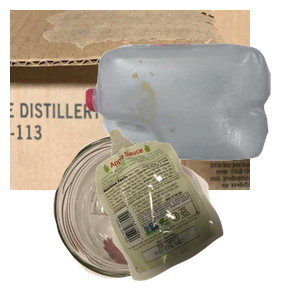cardboard: (10, 10, 250, 190)
glass: (50, 131, 252, 300)
plastic: (83, 41, 300, 194)
trash: (93, 126, 300, 300)
